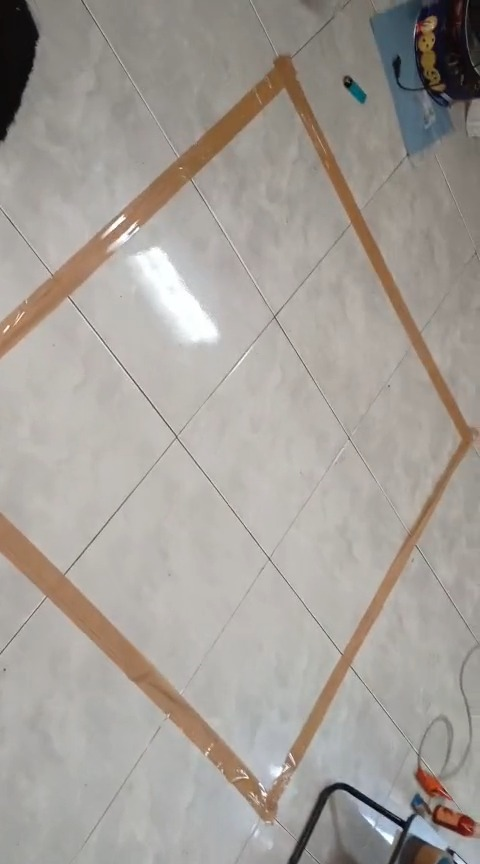floor marking: (0, 57, 476, 820)
